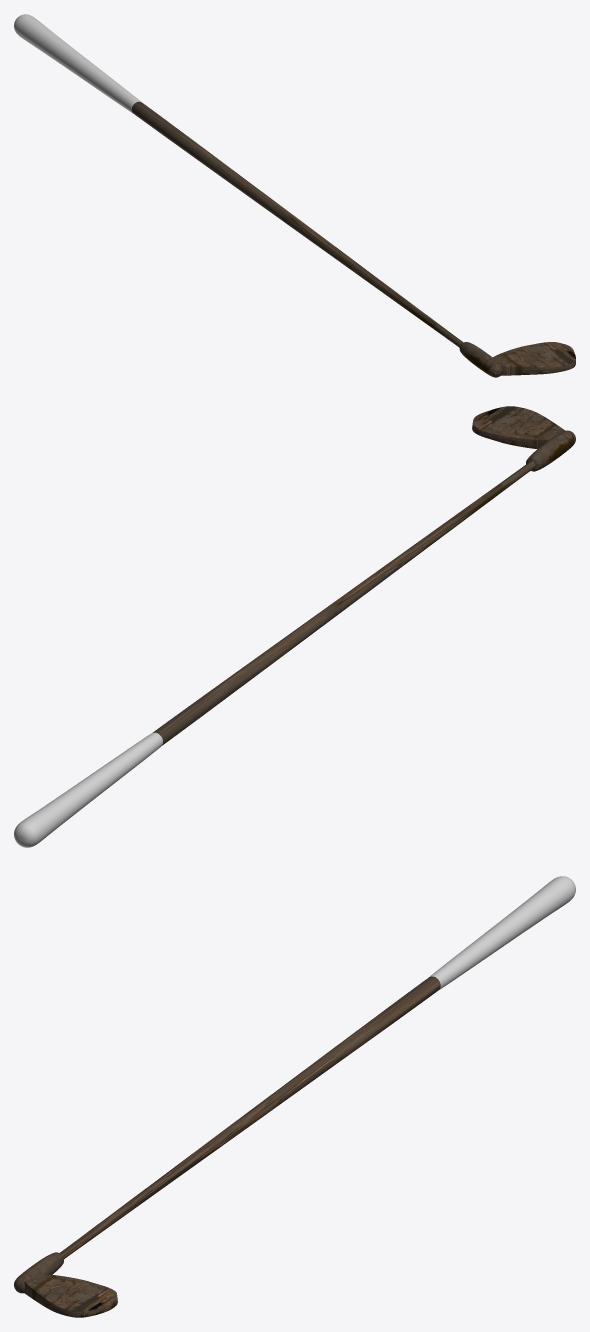
The model's file is golfclub.fbx.
3 renders of one model, top to bottom at view 1: azimuth 30°, elevation 25°; view 2: azimuth 150°, elevation 25°; view 3: azimuth 330°, elevation 25°, orthographic. The views are drawn at different scales.
Parts seen in each view (by area): view 1: golfclub; view 2: golfclub; view 3: golfclub.
Part boxes in pixels (x1=…): golfclub: x1=14, y1=14, x2=575, y2=377; golfclub: x1=14, y1=406, x2=575, y2=847; golfclub: x1=14, y1=876, x2=575, y2=1317.
Bounding box in the file's own units: 251 × 59.58 × 2437.
